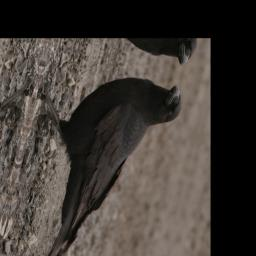Crow: (2, 50, 187, 256)
